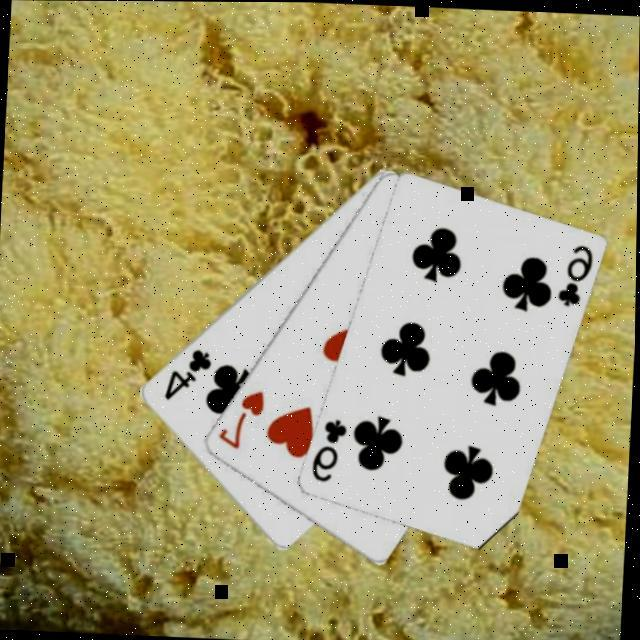4C: (163, 342, 218, 402)
6C: (310, 414, 353, 483), (555, 239, 598, 308)
7H: (217, 383, 271, 451)
